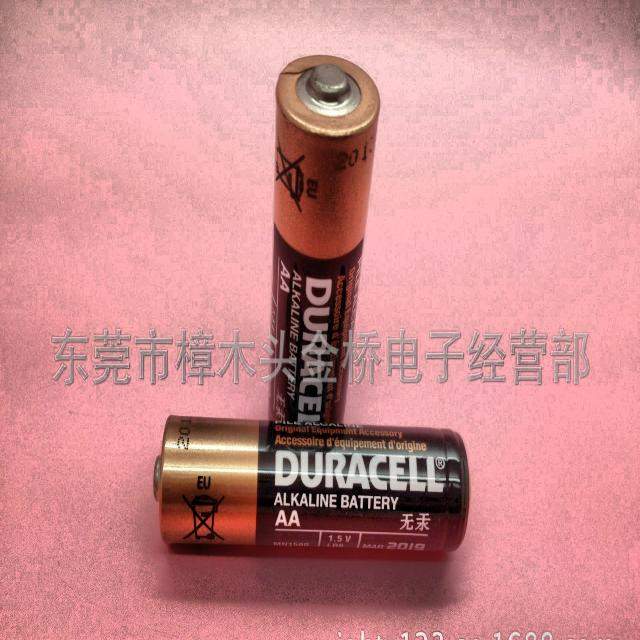Non-Valuable Waste - Batteries: (264, 54, 380, 424), (156, 417, 469, 551)
